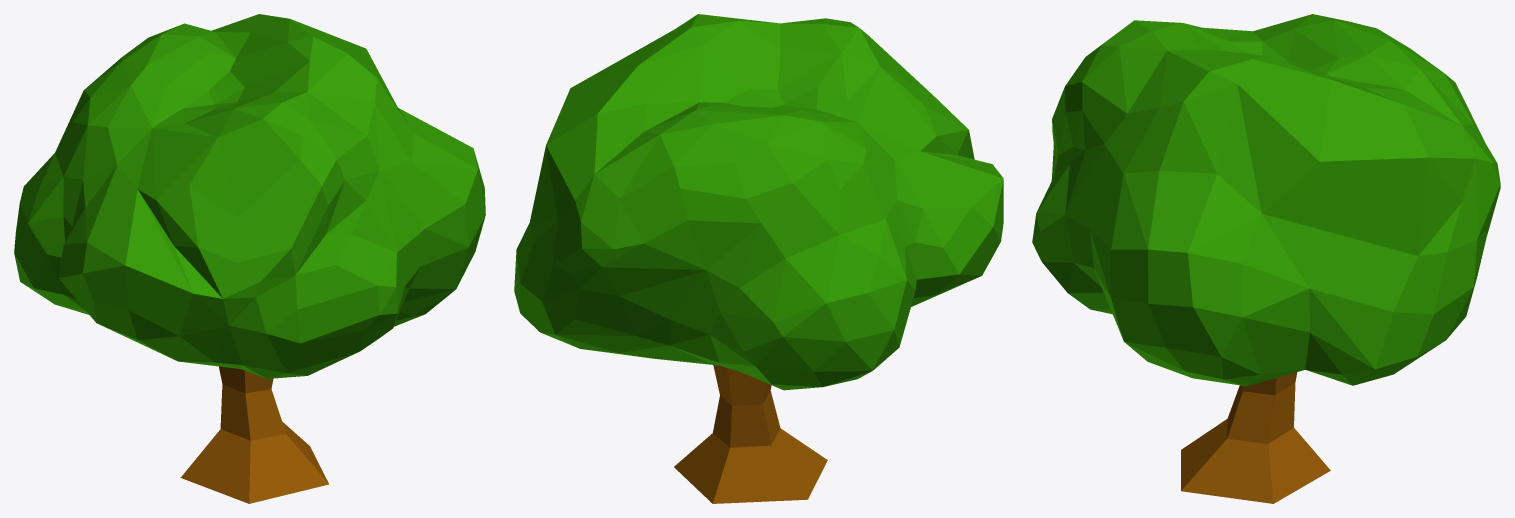
File: Low Poly Tree.fbx
3 renders of one model, left to right at view 1: azimuth 30°, elevation 25°; view 2: azimuth 150°, elevation 25°; view 3: azimuth 270°, elevation 25°, orthographic. The views are drawn at different scales.
Parts seen in each view (by area): view 1: Leaves, Trunk; view 2: Leaves, Trunk; view 3: Leaves, Trunk.
Boxes of the visible parts, box(x1,y1,x2,y2) form: Leaves: box(14, 14, 485, 378); Trunk: box(180, 366, 328, 503); Leaves: box(514, 14, 1003, 390); Trunk: box(674, 365, 827, 503); Leaves: box(1032, 14, 1500, 386); Trunk: box(1181, 372, 1330, 503).
Bounding box in the file's own units: 1702 × 1683 × 1619.
